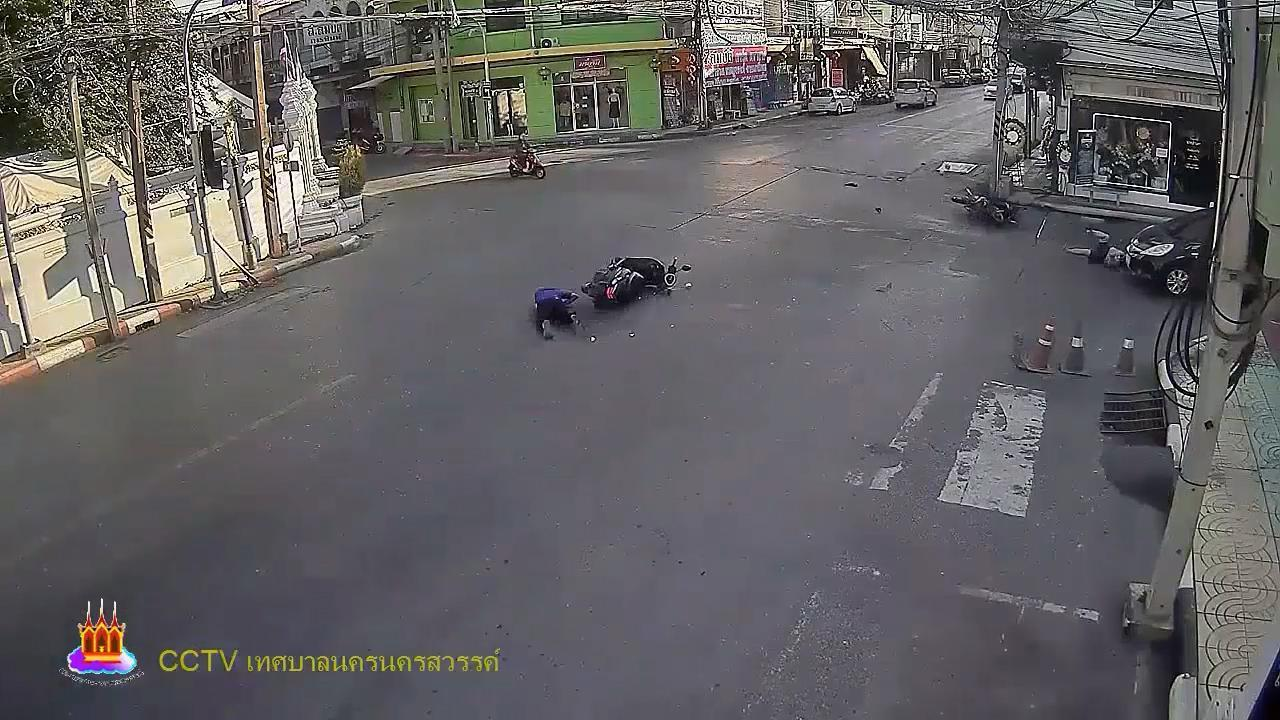accident: (1060, 219, 1134, 277), (533, 281, 588, 347)
